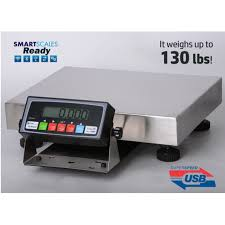Industrial Scale: (4, 65, 223, 174)
